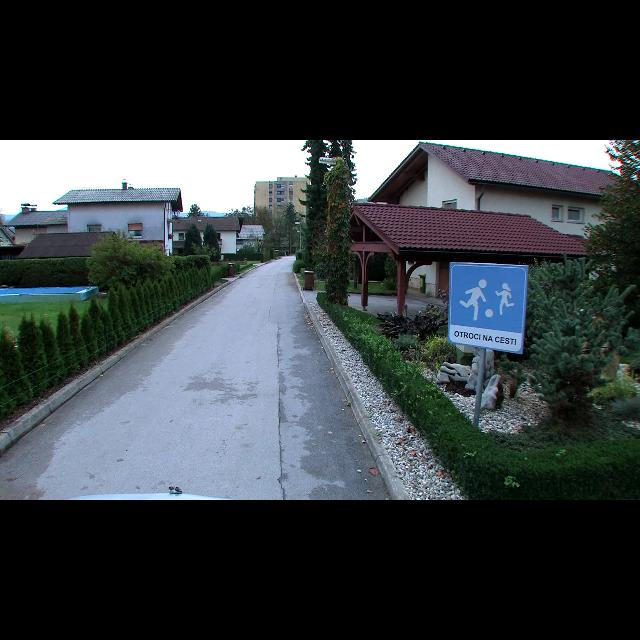Squared: (448, 260, 526, 358)
